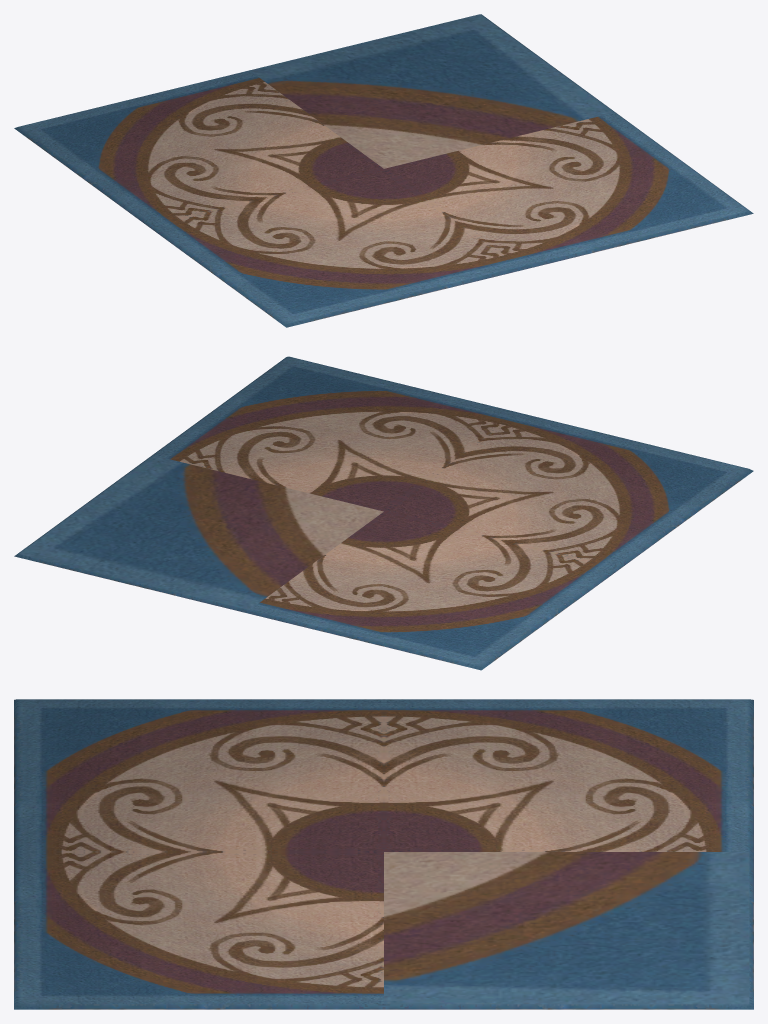
The model's file is jj_ditan01 1_56_16_8488out.fbx.
The picture shows the model from 3 angles, top to bottom: view 1: azimuth 30°, elevation 25°; view 2: azimuth 150°, elevation 25°; view 3: azimuth 270°, elevation 25°; orthographic projection. The views are drawn at different scales.
Visible parts, largest first — view 1: jj_ditan01 1; view 2: jj_ditan01 1; view 3: jj_ditan01 1.
Boxes of the visible parts, box(x1,y1,x2,y2) form: jj_ditan01 1: box(14, 14, 753, 327); jj_ditan01 1: box(14, 356, 753, 670); jj_ditan01 1: box(14, 699, 753, 1009).
Size of the model in its own units: 12.56 by 0.0549 by 12.68.
